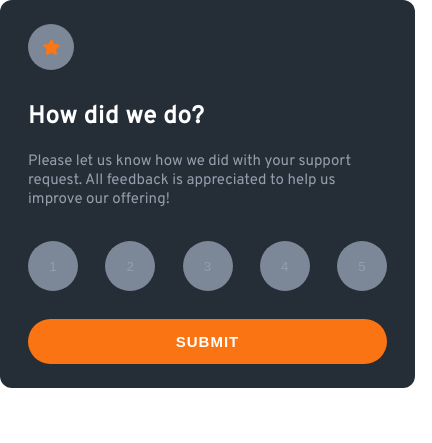
Test: Rating Component › Should not allow a user to submit if no rating is selected
Click the button "Submit" at (208, 342), box [28,319,387,364]
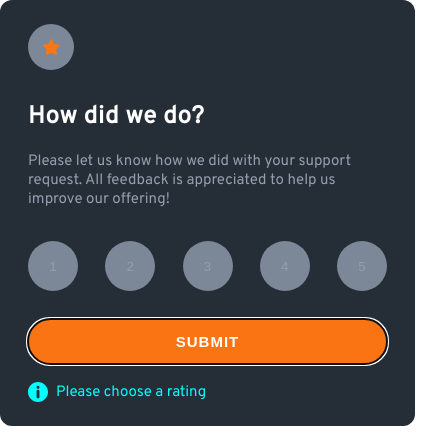
Check: the text "Please choose a rating" is shown, box [56,382,206,402]
